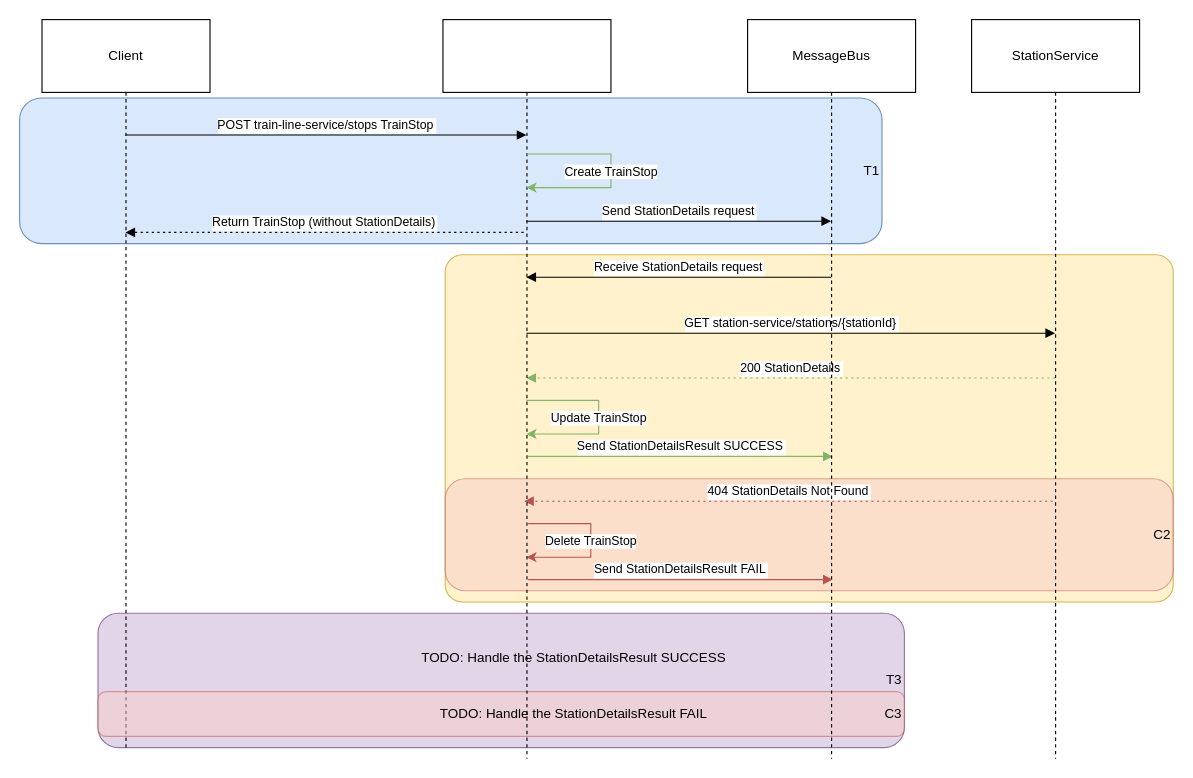
This 1193x778 diagram has some shape labels left out. The box of each missing label's shape, as (x1, y1, x2, y2) in pixels:
T2: (444, 254, 1173, 602)
TrainLineService: (442, 18, 611, 759)
